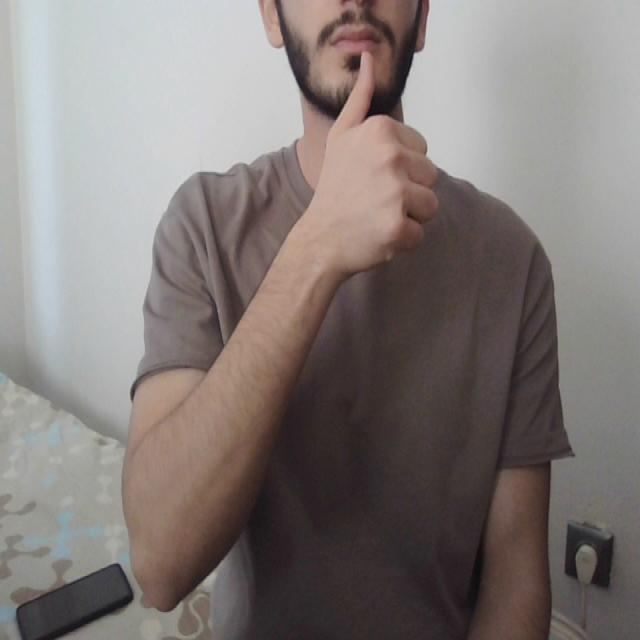Baba: (322, 9, 395, 108)
